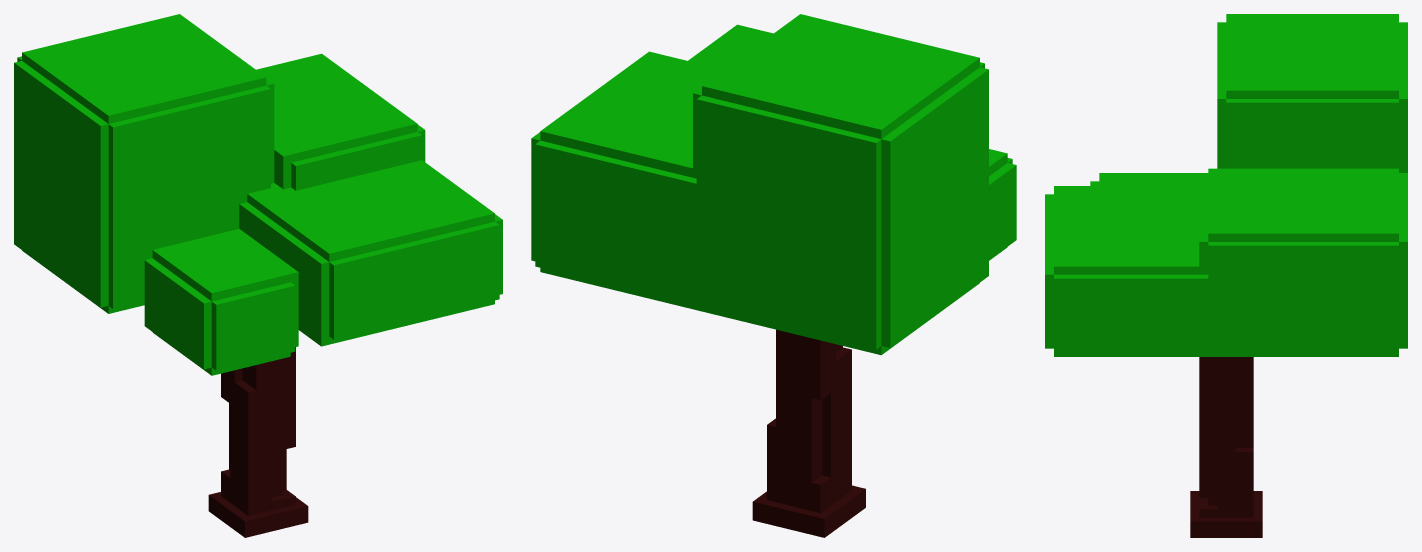
File: Tree_0_3.fbx
The picture shows the model from 3 angles, left to right: view 1: azimuth 30°, elevation 25°; view 2: azimuth 150°, elevation 25°; view 3: azimuth 270°, elevation 25°; orthographic projection. The views are drawn at different scales.
Parts seen in each view (by area): view 1: Tree_0_3; view 2: Tree_0_3; view 3: Tree_0_3.
Part boxes in pixels (box(x1,y1,x2,y2)): Tree_0_3: box(14, 14, 502, 537); Tree_0_3: box(531, 14, 1016, 537); Tree_0_3: box(1045, 14, 1407, 537).
Size of the model in its own units: 4000 by 5300 by 4000.
